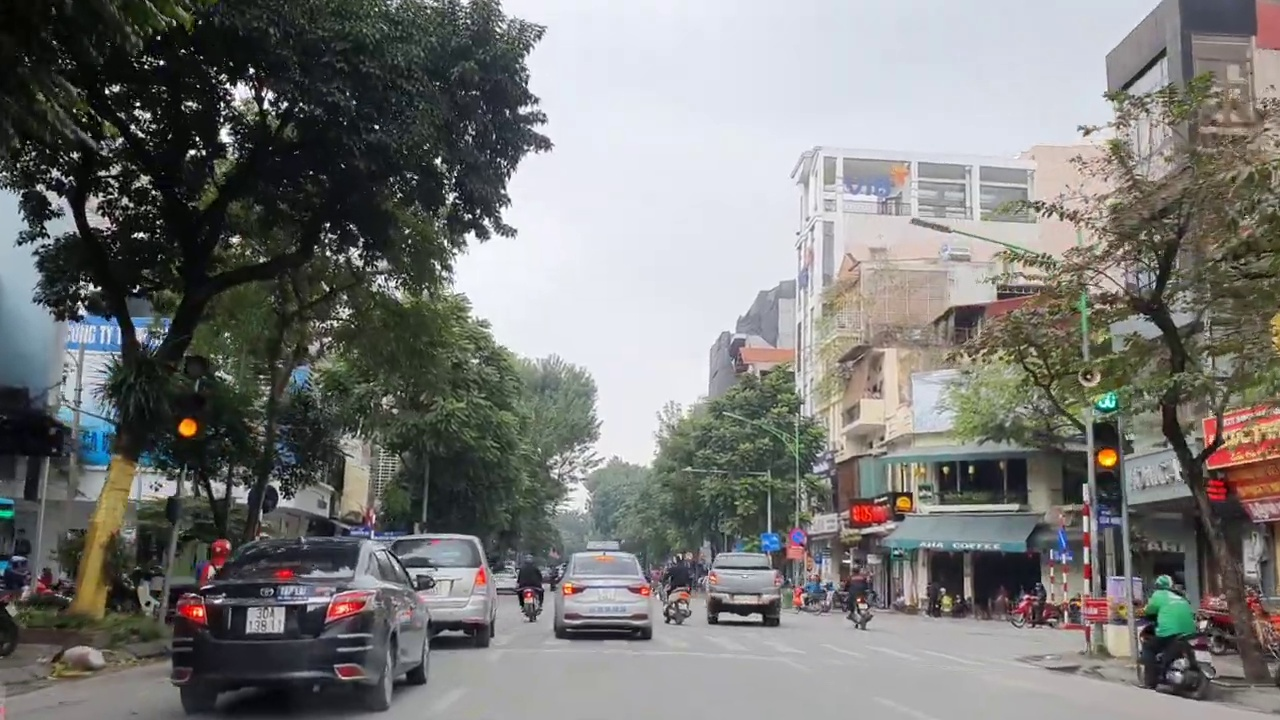vehicle-plate: (245, 605, 286, 634), (732, 592, 760, 604)
